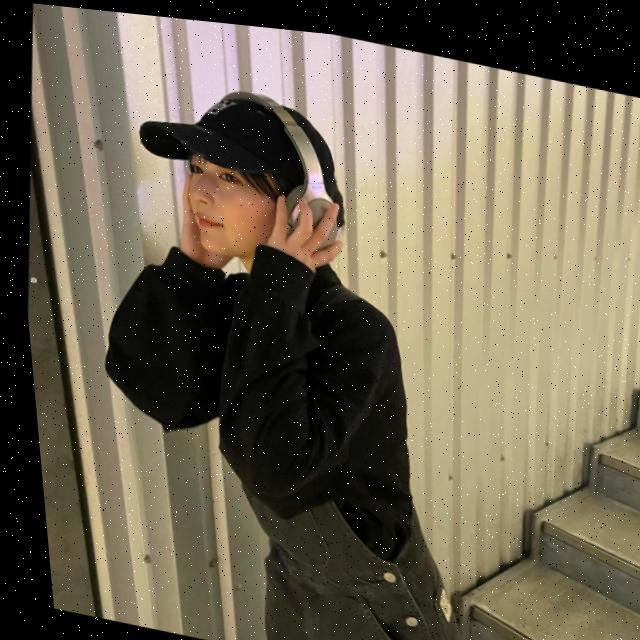illegal_helmet: (114, 60, 360, 278)
